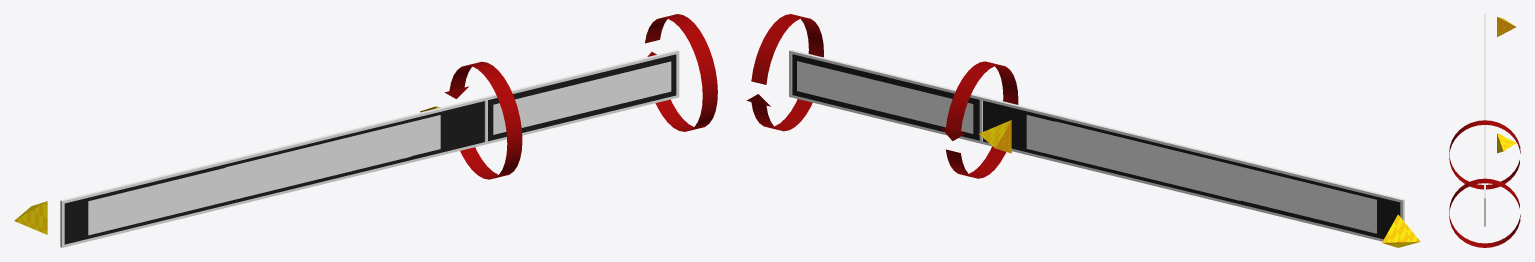
File: MUSIC_LIST.glb
3 views of the same model, side by side, from view 1: azimuth 30°, elevation 25°; view 2: azimuth 150°, elevation 25°; view 3: azimuth 270°, elevation 25° (orthographic). The views are drawn at different scales.
Visible parts, largest first — view 1: BGM_BG, Music23, Stage5, B_Music0, Music17, R_OBJ, Music19, obj3, Music21, Music16, Stage3, obj1 (+2 smaller); view 2: BGM_BG, Music3, Stage1_0, obj3, R_OBJ, Music7, Stage2, Music9, Music0, Music2, Stage6, obj1 (+1 smaller); view 3: obj3, R_OBJ, BGM_BG, obj2, obj1.
Part boxes in pixels (x1,y1,x2,y2): BGM_BG: (60,49,679,247); Music23: (88,130,387,235); Stage5: (515,61,671,127); B_Music0: (225,115,440,201); Music17: (176,129,405,213); R_OBJ: (444,61,522,179); Music19: (298,125,404,183); obj3: (645,14,717,131); Music21: (120,162,291,227); Music16: (254,150,410,191); Stage3: (493,62,669,134); obj1: (14,201,47,234); BGM_BG: (789,49,1404,241); Music3: (1056,122,1288,212); Stage1_0: (813,65,947,126); obj3: (746,14,823,131); R_OBJ: (941,61,1018,178); Music7: (1177,151,1345,225); Stage2: (798,61,973,133); Music9: (1067,157,1376,233); Music0: (1026,115,1240,200); Music2: (1055,121,1209,165); Stage6: (797,61,972,132); obj1: (1382,214,1420,247); obj3: (1449,178,1520,247); R_OBJ: (1449,120,1520,189); BGM_BG: (1484,14,1485,226); obj2: (1497,133,1516,153); obj1: (1497,17,1516,36).
Bounding box in the file's own units: 25.84 × 3.94 × 3.94.
Materials: 41 (41 with a texture image).
